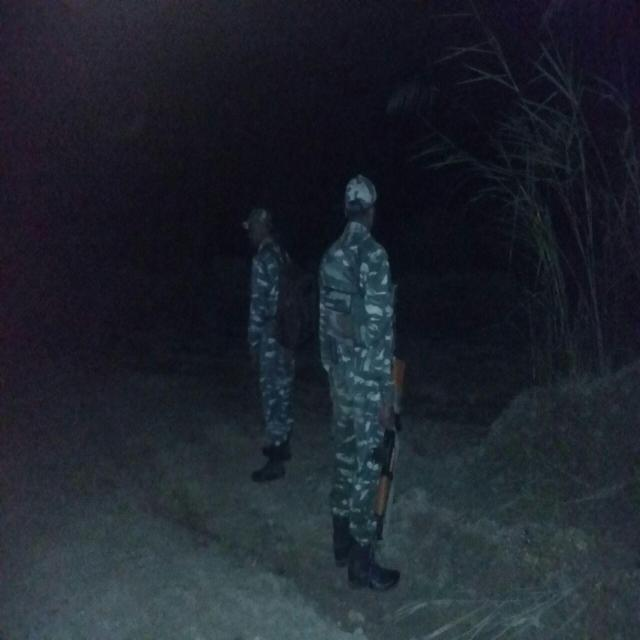Forest: (0, 1, 640, 640)
Militant: (306, 159, 413, 614), (232, 184, 314, 499)
